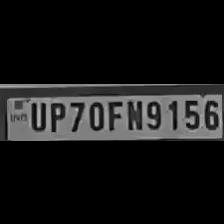0: (85, 98, 105, 130)
1: (164, 97, 180, 129)
5: (180, 96, 200, 130)
6: (200, 96, 220, 130)
7: (66, 98, 84, 132)
9: (143, 97, 163, 129)
F: (106, 97, 122, 130)
N: (124, 97, 142, 130)
P: (46, 98, 66, 132)
U: (26, 99, 46, 131)
